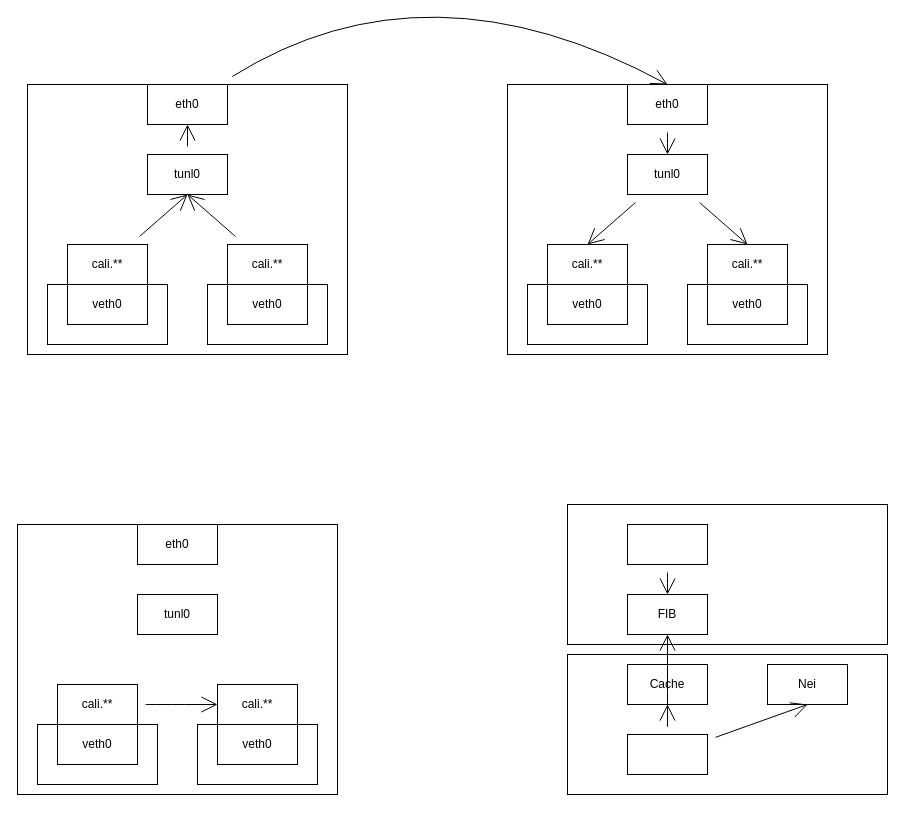
Image size: 905x813. Some labels were removed from this diagram. Each missing label, with the centre of its shape:
app: point (667, 544)
interface: point (667, 754)
